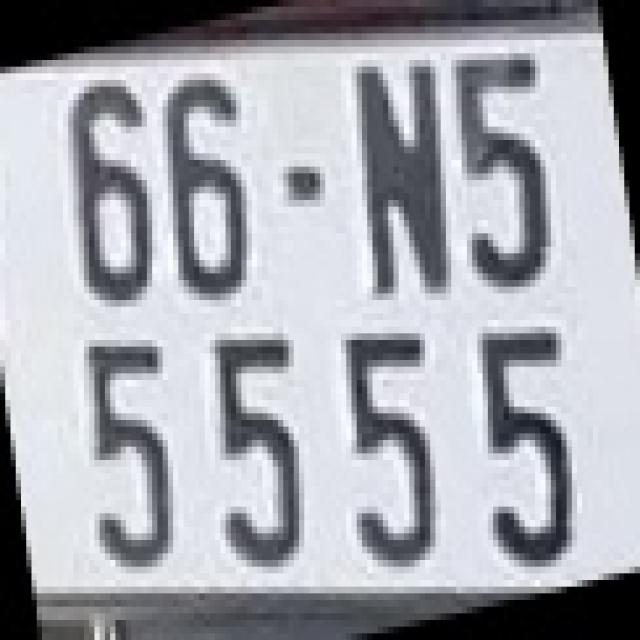5: (477, 320, 577, 567), (456, 46, 556, 286), (341, 326, 441, 566), (210, 326, 309, 566), (84, 333, 178, 567)
6: (162, 73, 252, 300), (68, 73, 152, 307)
N: (352, 60, 451, 293)
